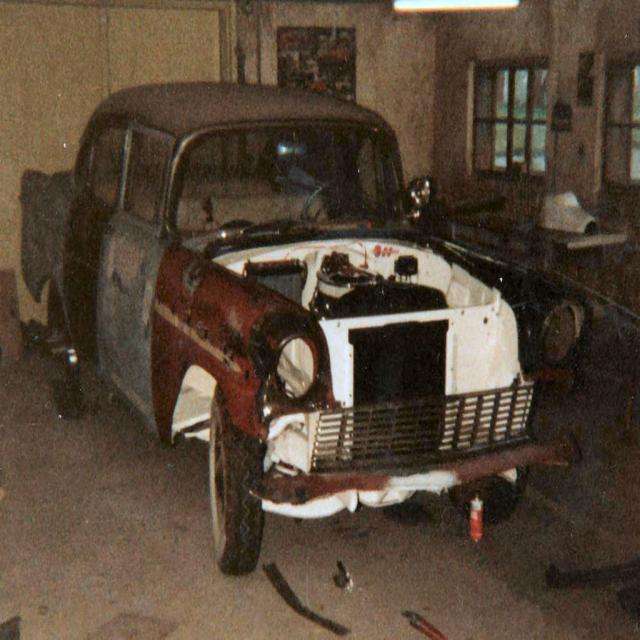car: (15, 77, 578, 566)
